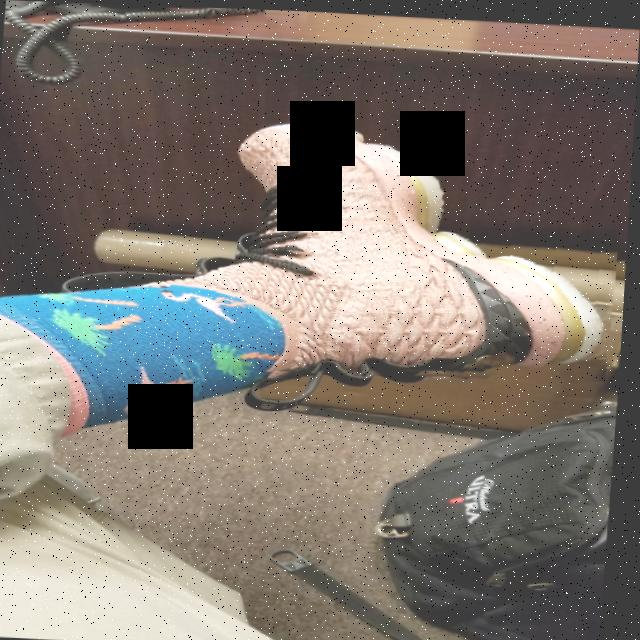shoe: (214, 118, 630, 386)
